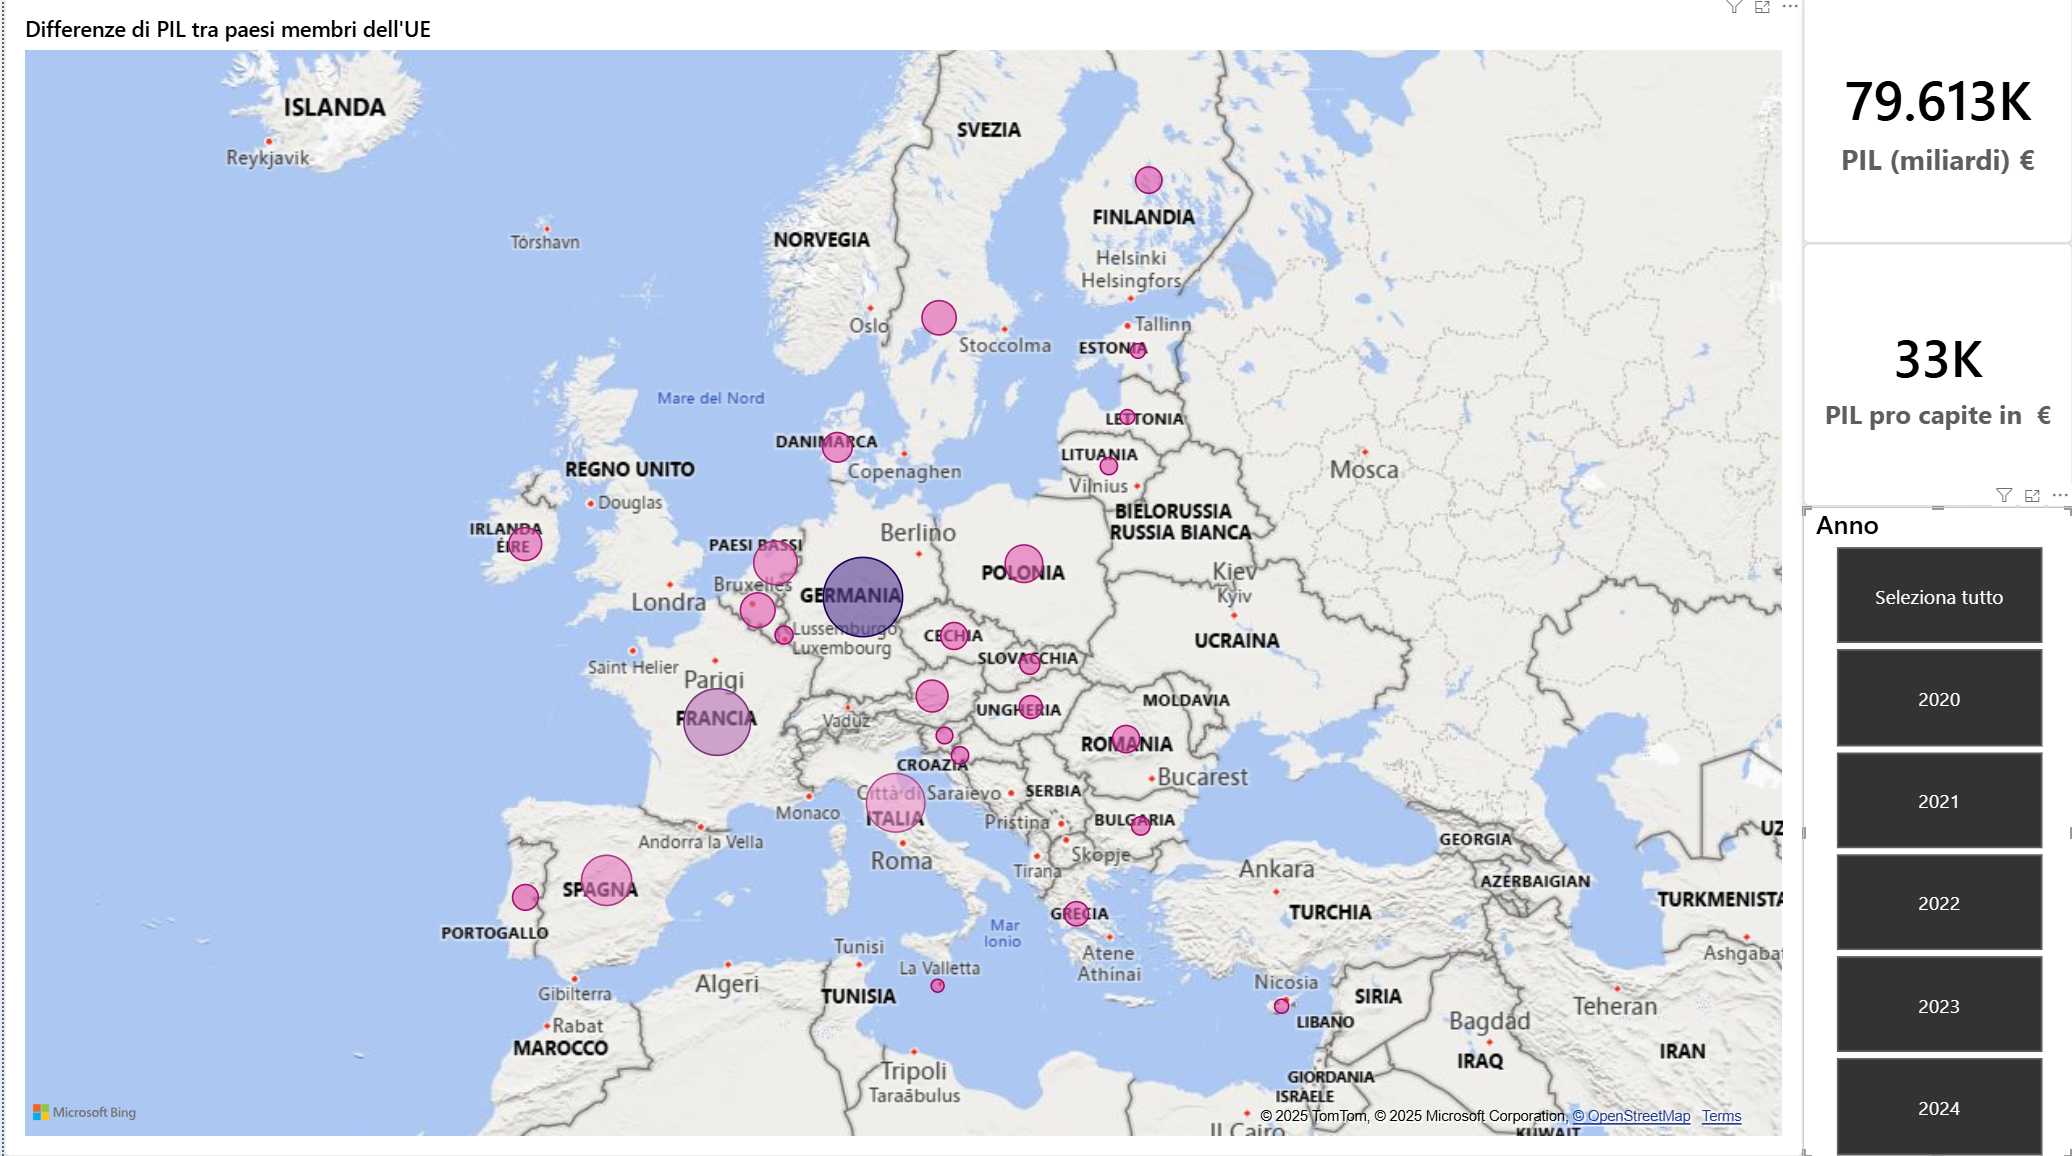

Layout of this report page (visuals, bound fields, positions):
{"tool":"powerbi","page":{"name":"PIL totale UE","canvas":[1280,720],"ordinal":1},"visuals":[{"type":"map","title":"Differenze di PIL tra paesi membri dell''UE","fields":{"Category":["Europa tendenze_di_crescita_economica.Stato"],"Size":["Sum(Europa tendenze_di_crescita_economica.Gdp_totale)"]},"box":[0,0,1112.7,720.4],"z":0},{"type":"slicer","fields":{"Values":["Europa tendenze_di_crescita_economica.Anno"]},"box":[1112.7,317.8,166.9,402.7],"z":1000},{"type":"card","fields":{"Values":["Sum(Europa tendenze_di_crescita_economica.Gdp_totale)"]},"box":[1112.7,0,166.9,154.6],"z":2000},{"type":"actionButton","box":[0,0,100,40],"z":3000},{"type":"card","title":"€","fields":{"Values":["Avg(Europa tendenze_di_crescita_economica.Gdp_per_capita)"]},"box":[1112.7,154.6,166.9,163.1],"z":4000}]}

Visuals, with their boxes on the page's 1280x720 design canvas (x1, y1, x2, y2). These are canvas units, not pixel positions in the 2072x1156 screenshot, which may show the page scaled, cropped or inside an application window:
"Differenze di PIL tra paesi membri dell''UE" map: (0, 0, 1113, 720)
slicer - Europa tendenze_di_crescita_economica.Anno: (1113, 318, 1280, 720)
card - Sum(Europa tendenze_di_crescita_economica.Gdp_totale): (1113, 0, 1280, 155)
actionButton: (0, 0, 100, 40)
"€" card: (1113, 155, 1280, 318)
